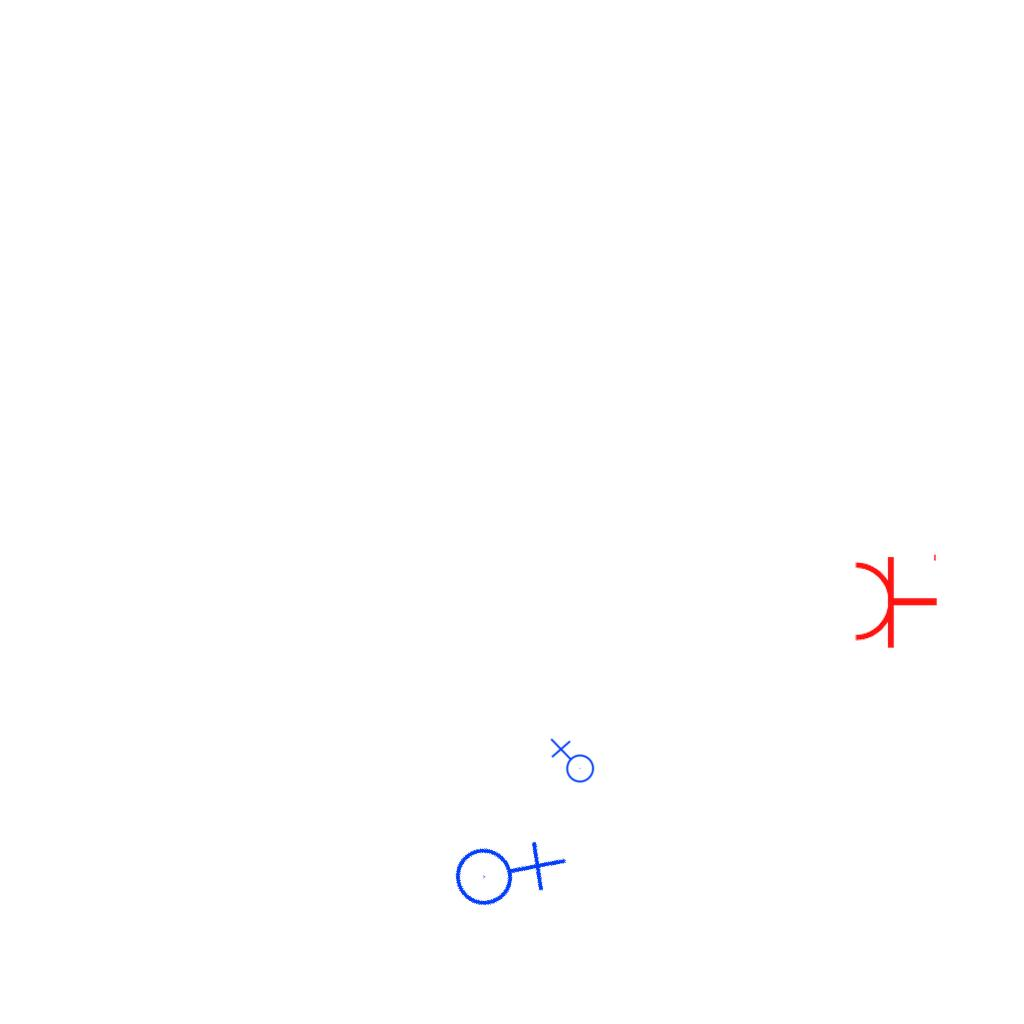Elektroanschluss_allgemein_230V_Geraeteanschlussdose_230V: (436, 802, 571, 936), (548, 738, 595, 787)
Schukosteckdose_einfach: (852, 550, 939, 650)
